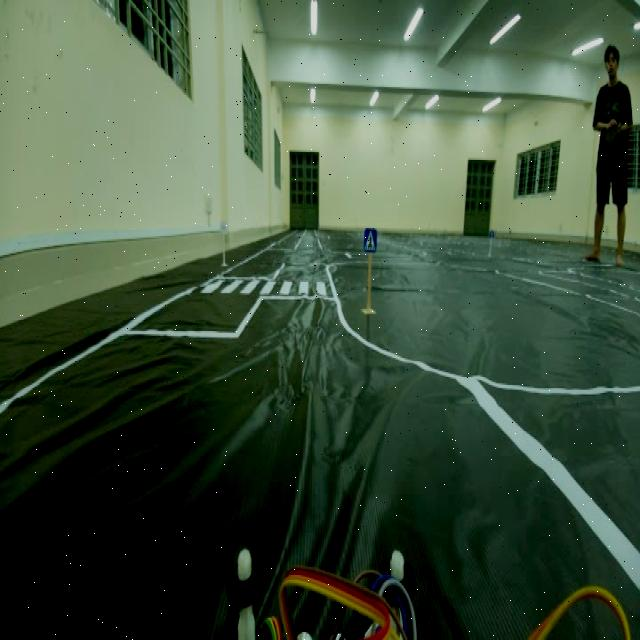crosswalk: (358, 217, 381, 257)
